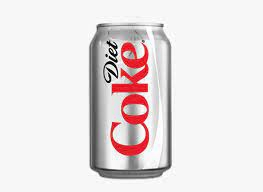can: (88, 17, 175, 179)
